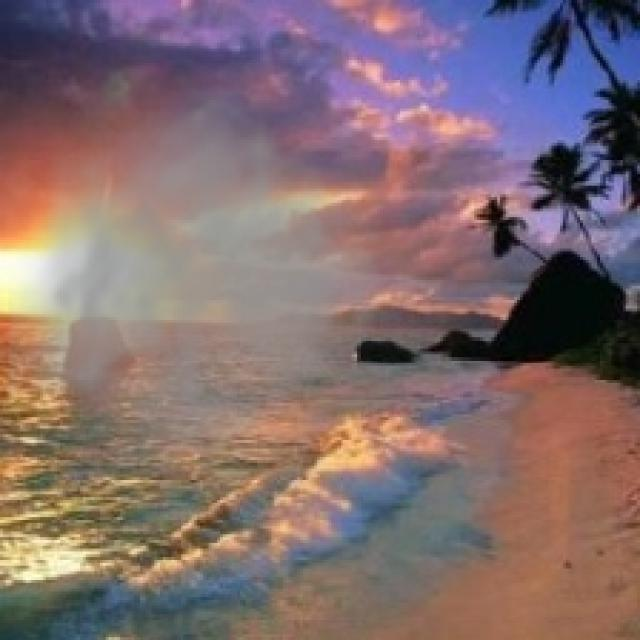Smoke: (8, 71, 426, 492)
